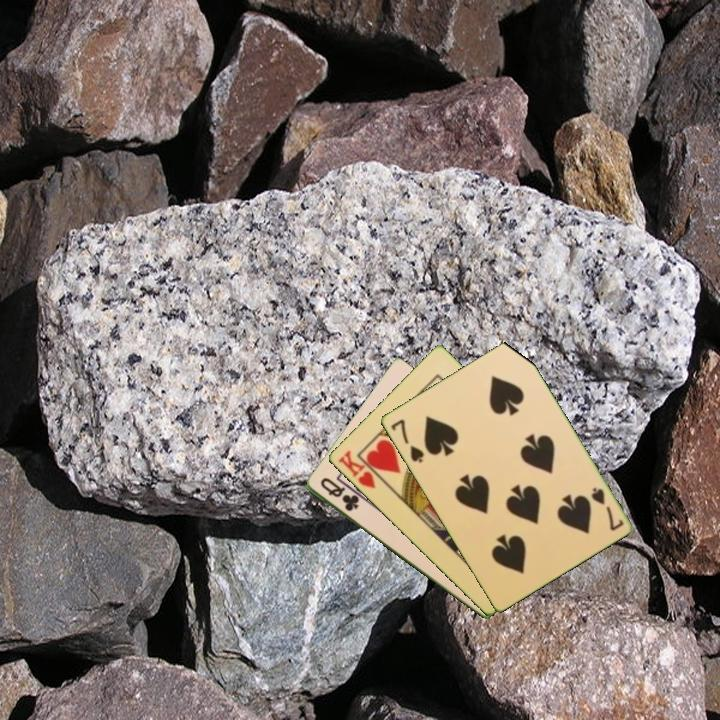7s: (387, 416, 427, 466), (587, 483, 626, 534)
Kh: (334, 447, 387, 492)
Qc: (316, 474, 362, 514)
